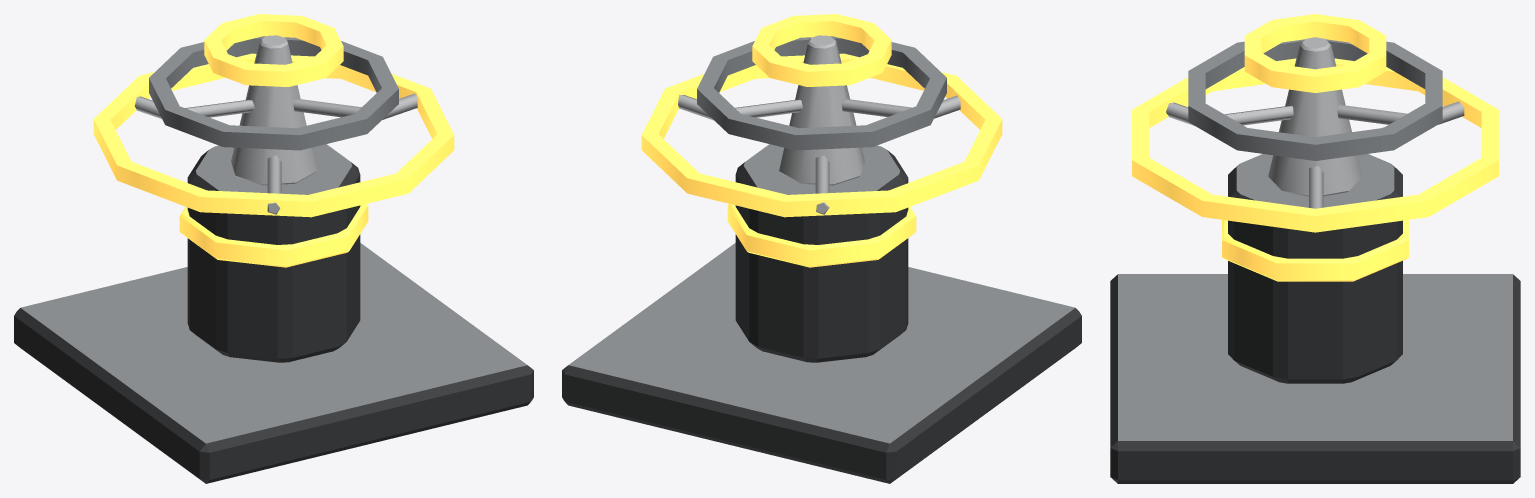
File: R4X_SupportTurretDeployer_LOD1.fbx
3 renders of one model, left to right at view 1: azimuth 30°, elevation 25°; view 2: azimuth 150°, elevation 25°; view 3: azimuth 270°, elevation 25°, orthographic. The views are drawn at different scales.
Visible parts, largest first — view 1: R4X_SupportTurretDeployer_LOD1; view 2: R4X_SupportTurretDeployer_LOD1; view 3: R4X_SupportTurretDeployer_LOD1.
Part boxes in pixels (x1,y1,x2,y2): R4X_SupportTurretDeployer_LOD1: (14, 14, 533, 483); R4X_SupportTurretDeployer_LOD1: (562, 14, 1081, 483); R4X_SupportTurretDeployer_LOD1: (1110, 14, 1520, 483).
Bounding box in the file's own units: 0.52 × 0.5 × 0.52.
